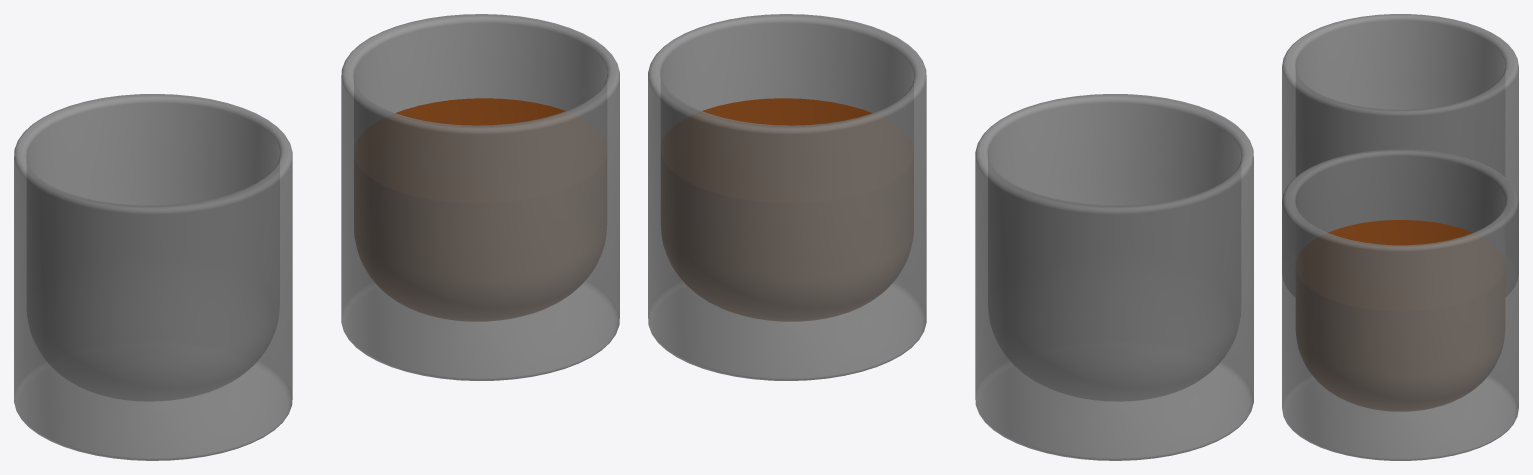
File: glass_whisky_test.glb
3 views of the same model, side by side, from view 1: azimuth 30°, elevation 25°; view 2: azimuth 150°, elevation 25°; view 3: azimuth 270°, elevation 25° (orthographic). The views are drawn at different scales.
Visible parts, largest first — view 1: Object_3, Object_2; view 2: Object_3, Object_2; view 3: Object_3, Object_2.
Part boxes in pixels (bbox=[...]): Object_3: bbox=[14, 14, 619, 460]; Object_2: bbox=[395, 98, 565, 125]; Object_3: bbox=[648, 14, 1253, 460]; Object_2: bbox=[702, 98, 872, 125]; Object_3: bbox=[1282, 14, 1518, 460]; Object_2: bbox=[1328, 220, 1472, 245].
Bounding box in the file's own units: 20.6 × 8.76 × 8.76.
Materials: 2 (2 with a texture image).
